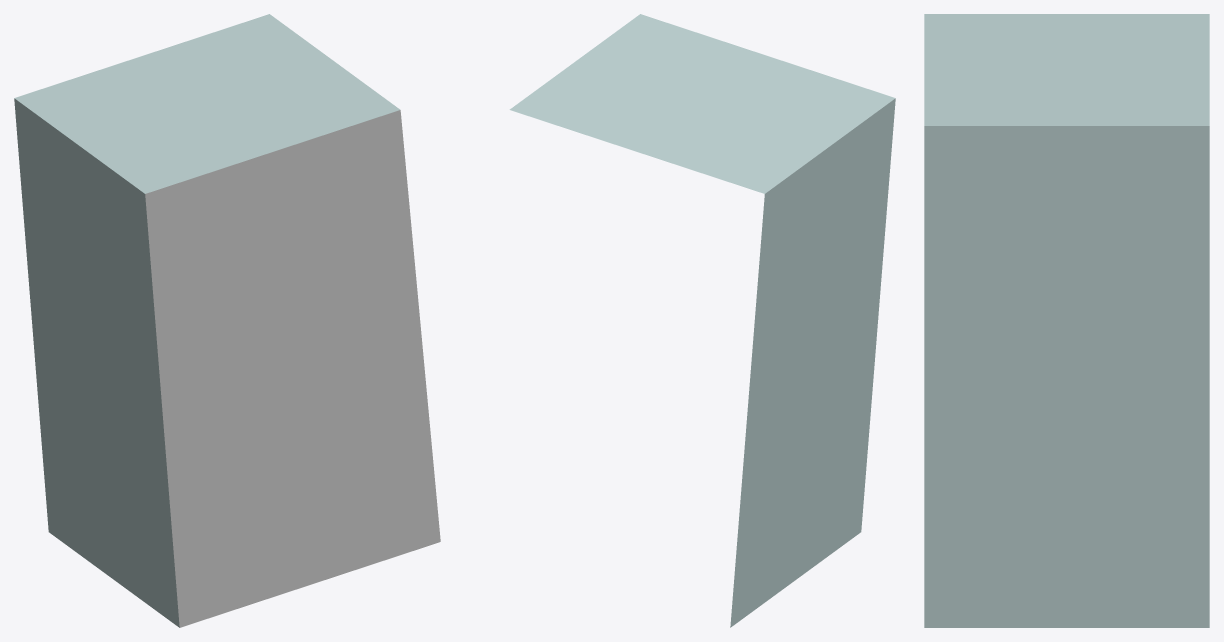
3 renders of one model, left to right at view 1: azimuth 30°, elevation 25°; view 2: azimuth 150°, elevation 25°; view 3: azimuth 270°, elevation 25°, orthographic. The views are drawn at different scales.
Visible parts, largest first — view 1: 0_1_1_2_3_1_2_0_2; view 2: 0_1_1_2_3_1_2_0_2; view 3: 0_1_1_2_3_1_2_0_2.
Boxes of the visible parts, x1,y1,x2,y2 form: 0_1_1_2_3_1_2_0_2: [14, 14, 440, 627]; 0_1_1_2_3_1_2_0_2: [509, 14, 895, 627]; 0_1_1_2_3_1_2_0_2: [924, 14, 1209, 627].
Bounding box in the file's own units: 3.91 × 5.87 × 3.
